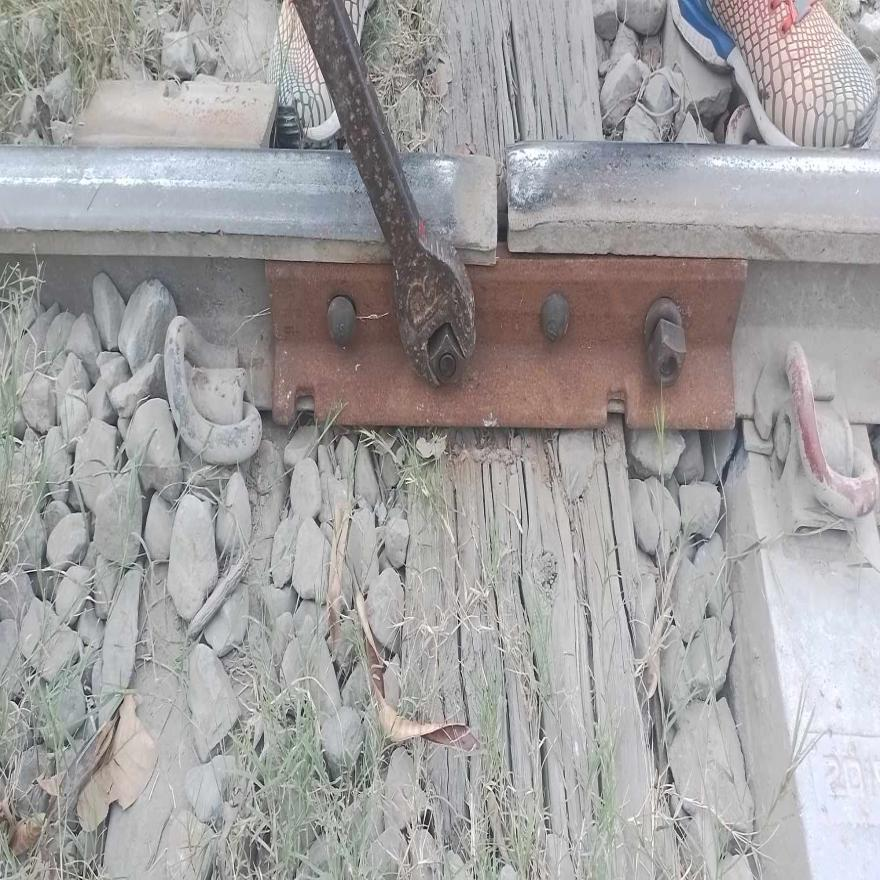railway-gap: (454, 121, 547, 299)
